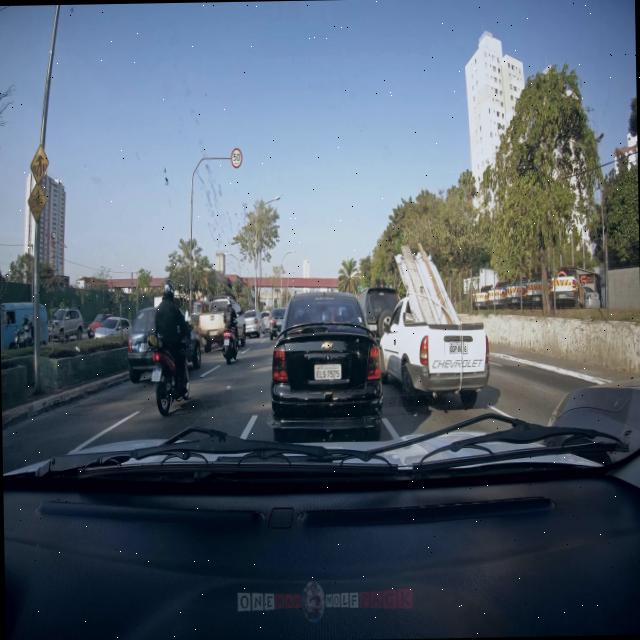License-plate: (314, 363, 344, 381)
